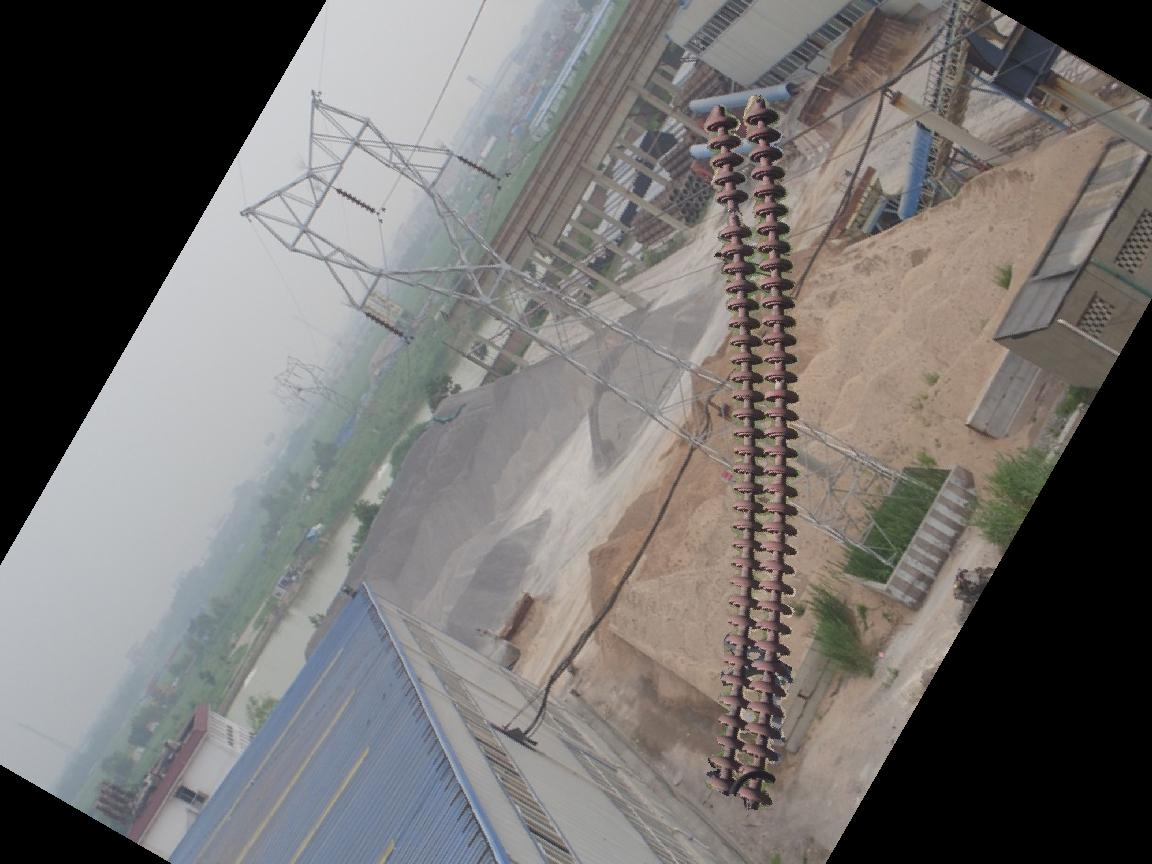insulator: (702, 99, 805, 808), (333, 185, 379, 217), (359, 309, 407, 339), (454, 150, 498, 181)
insulator_stringdrop: (713, 186, 755, 243)
